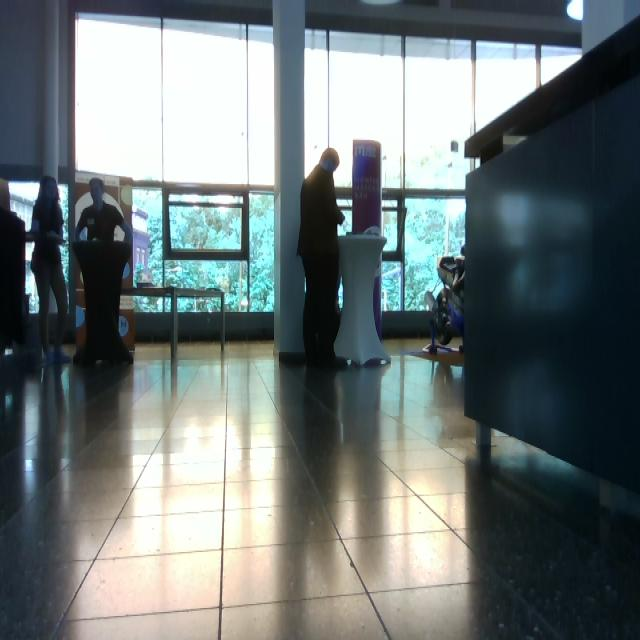light bulb: (566, 1, 584, 21)
person: (73, 177, 134, 368), (297, 148, 349, 370), (28, 174, 72, 365)
pillar: (272, 1, 307, 362)
tiled floor: (2, 337, 639, 638)
window: (74, 12, 277, 318)
